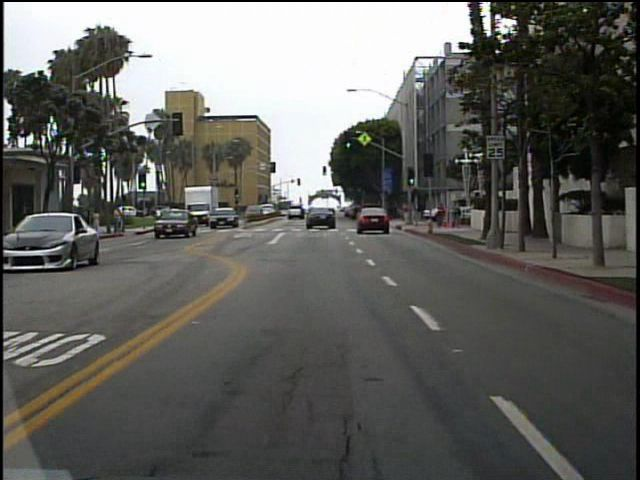person: (114, 202, 125, 236)
